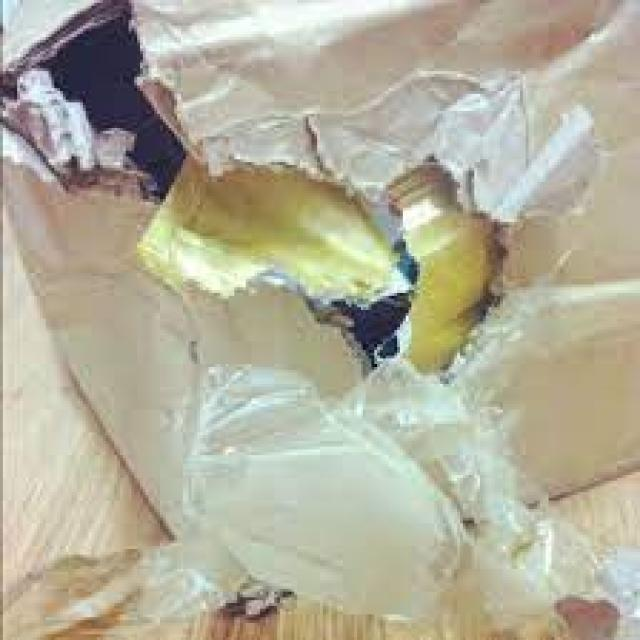damaged: (11, 14, 503, 386)
